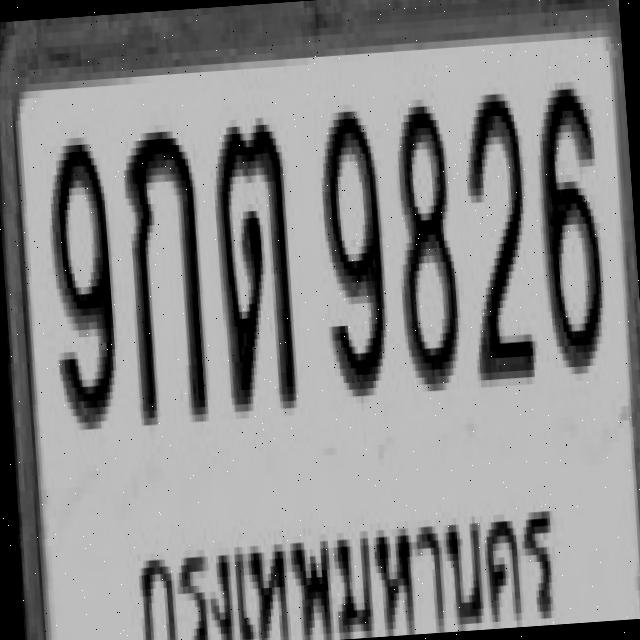10GorGai: (118, 122, 208, 426)
2: (458, 86, 537, 380)
30TorTao: (209, 116, 299, 412)
6: (532, 80, 608, 368)
8: (388, 97, 462, 386)
9: (41, 128, 121, 430), (314, 102, 391, 398)
Bangkok: (124, 474, 561, 640)
